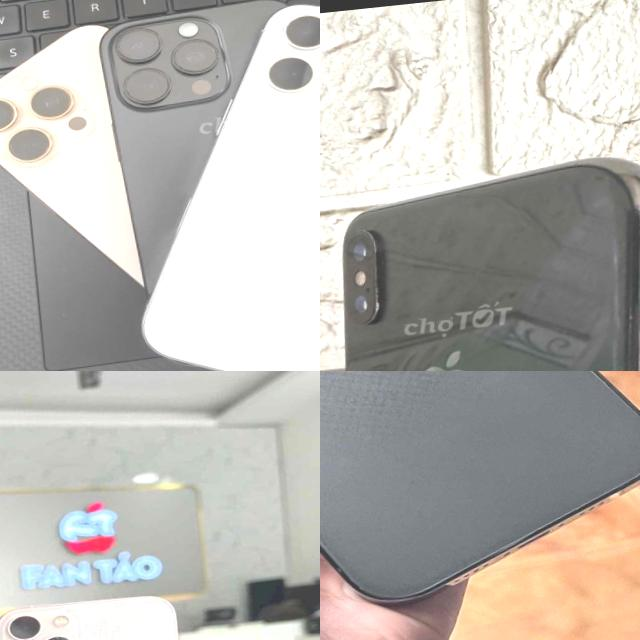gen_12_13: (320, 371, 640, 639)
gen_16: (112, 0, 320, 371)
gen_x_xs: (320, 144, 640, 371)
